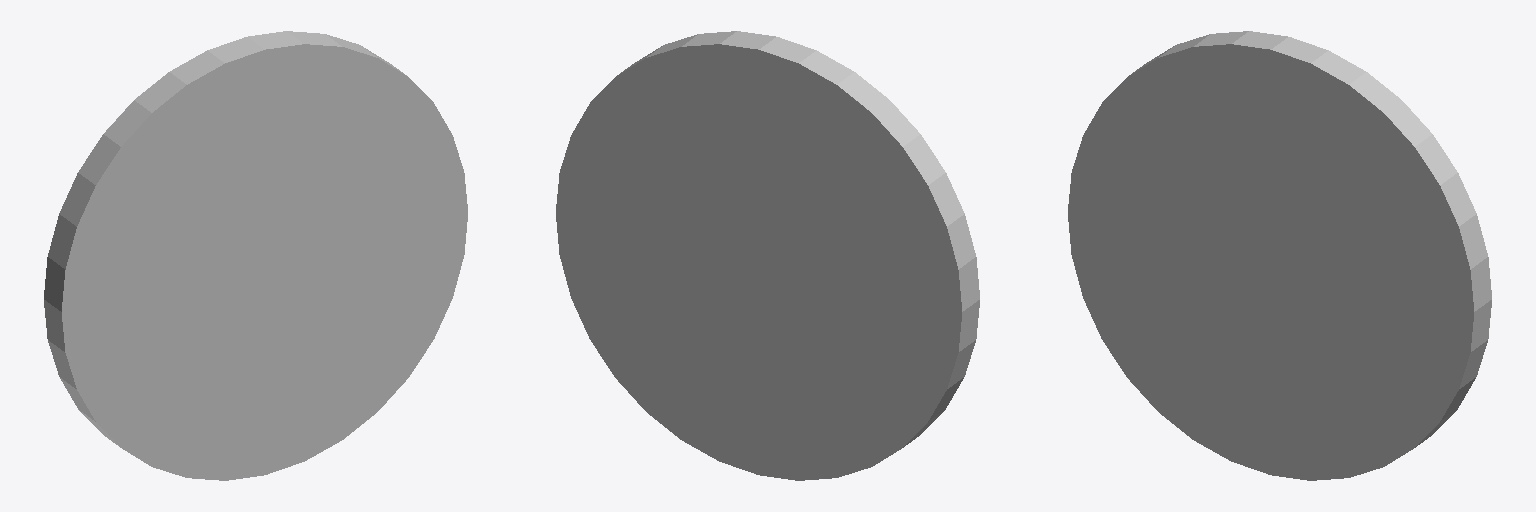
Rendered from disc.obj.
3 views of the same model, side by side, from view 1: azimuth 30°, elevation 25°; view 2: azimuth 150°, elevation 25°; view 3: azimuth 330°, elevation 25° (orthographic).
Parts seen in each view (by area): view 1: Cylinder; view 2: Cylinder; view 3: Cylinder.
Part boxes in pixels (x1,y1,x2,y2): Cylinder: (44,31,467,480); Cylinder: (556,31,979,480); Cylinder: (1068,31,1491,480).
Size of the model in its own units: 2 by 2 by 0.1525.